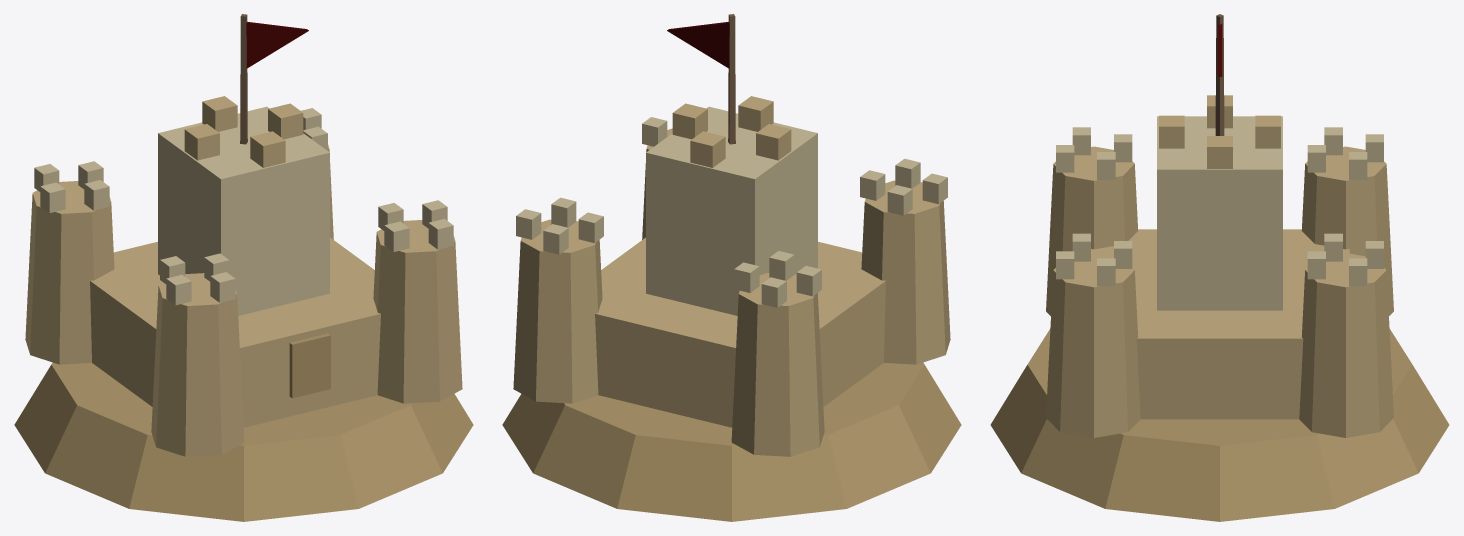
Rendered from Sandcastle.glb.
3 renders of one model, left to right at view 1: azimuth 30°, elevation 25°; view 2: azimuth 150°, elevation 25°; view 3: azimuth 270°, elevation 25°, orthographic.
Visible parts, largest first — view 1: Sandcastle; view 2: Sandcastle; view 3: Sandcastle.
Part boxes in pixels (x1,y1,x2,y2): Sandcastle: (14, 14, 473, 521); Sandcastle: (502, 14, 961, 521); Sandcastle: (990, 14, 1449, 521).
Size of the model in its own units: 1.24 by 1.22 by 1.24.
